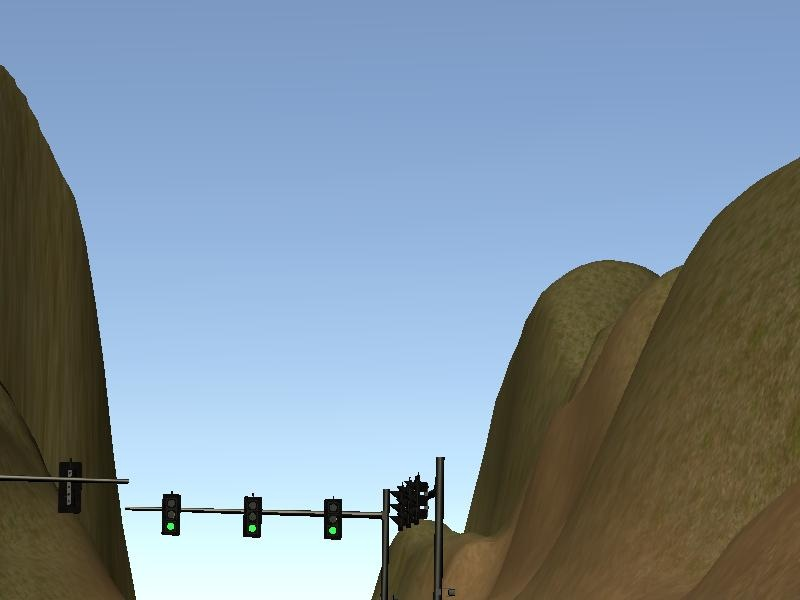green: (160, 490, 183, 538), (322, 496, 342, 538), (245, 496, 263, 540)
